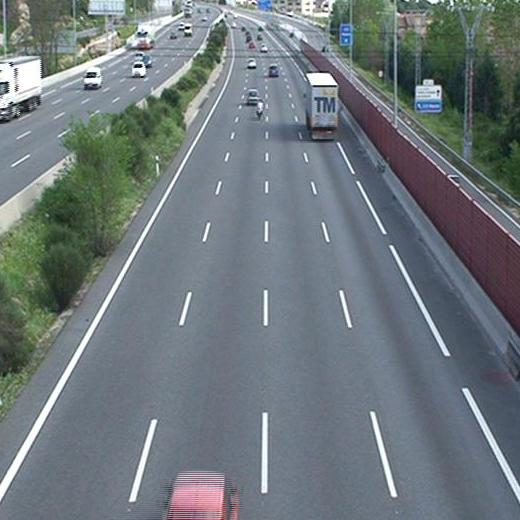car: (246, 89, 259, 104), (268, 63, 279, 76), (247, 56, 257, 69)
motorcycle: (255, 99, 265, 119)
truck: (302, 73, 337, 140)
